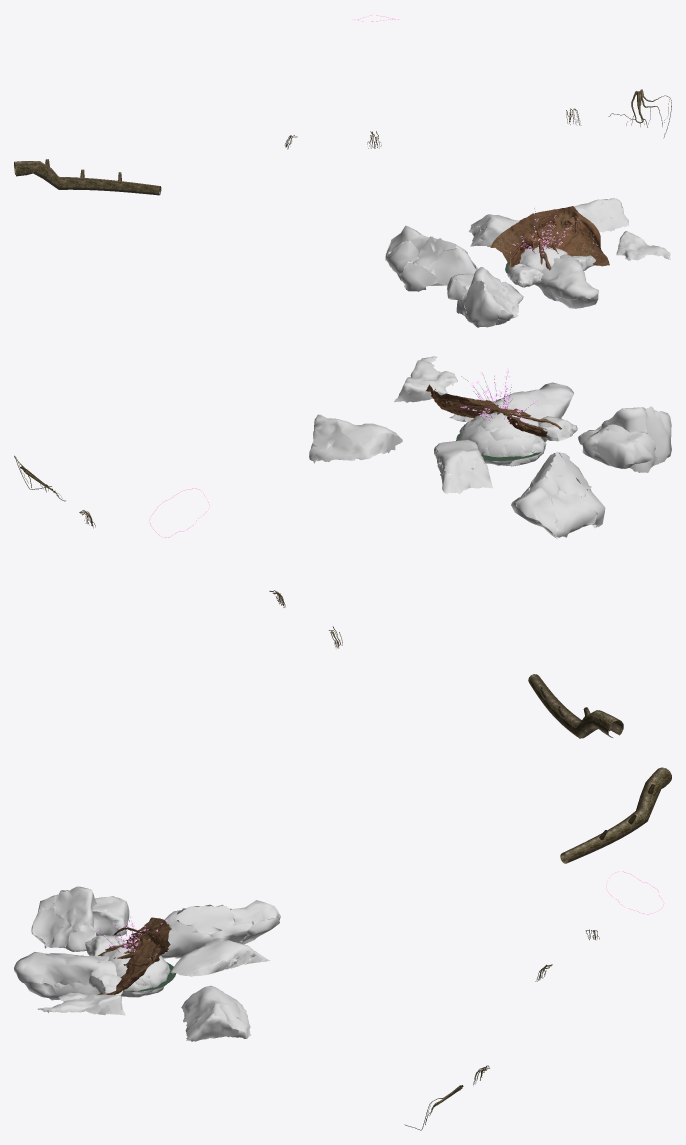
File: forest_assets.glb
3 renders of one model, top to bottom at view 1: azimuth 30°, elevation 25°; view 2: azimuth 150°, elevation 25°; view 3: azimuth 270°, elevation 25°, orthographic. The views are drawn at different scales.
Visible parts, largest first — view 1: asset_004, asset_054, asset_057, asset_058, asset_007, asset_056, asset_055, asset_059, asset_061, asset_060; view 2: asset_054, asset_056, asset_055, asset_060, asset_057, asset_007, asset_004, asset_058, asset_059, asset_061; view 3: asset_054, asset_058, asset_057, asset_056, asset_004, asset_007, asset_055, asset_059, asset_060, asset_062.
Part boxes in pixels (x1=…): asset_004: x1=490, y1=206, x2=609, y2=270; asset_054: x1=385, y1=225, x2=478, y2=291; asset_057: x1=456, y1=267, x2=523, y2=327; asset_058: x1=534, y1=254, x2=598, y2=308; asset_007: x1=14, y1=159, x2=161, y2=195; asset_056: x1=564, y1=198, x2=629, y2=232; asset_055: x1=468, y1=214, x2=535, y2=246; asset_059: x1=616, y1=231, x2=670, y2=260; asset_061: x1=507, y1=263, x2=543, y2=287; asset_060: x1=447, y1=273, x2=494, y2=301; asset_054: x1=511, y1=451, x2=605, y2=538; asset_056: x1=309, y1=414, x2=402, y2=463; asset_055: x1=434, y1=439, x2=492, y2=494; asset_060: x1=582, y1=424, x2=655, y2=468; asset_057: x1=578, y1=406, x2=671, y2=472; asset_007: x1=528, y1=674, x2=623, y2=738; asset_004: x1=425, y1=384, x2=561, y2=437; asset_058: x1=494, y1=382, x2=573, y2=441; asset_059: x1=394, y1=356, x2=457, y2=402; asset_061: x1=538, y1=416, x2=577, y2=441; asset_054: x1=161, y1=900, x2=280, y2=958; asset_058: x1=14, y1=952, x2=116, y2=1000; asset_057: x1=31, y1=886, x2=96, y2=951; asset_056: x1=181, y1=985, x2=251, y2=1041; asset_004: x1=97, y1=917, x2=171, y2=994; asset_007: x1=560, y1=767, x2=671, y2=863; asset_055: x1=170, y1=938, x2=269, y2=976; asset_059: x1=37, y1=992, x2=125, y2=1015; asset_060: x1=91, y1=896, x2=129, y2=936; asset_062: x1=88, y1=961, x2=122, y2=995.
Size of the model in its own units: 20.51 by 4.12 by 17.14.
21 materials, 6 textured.
